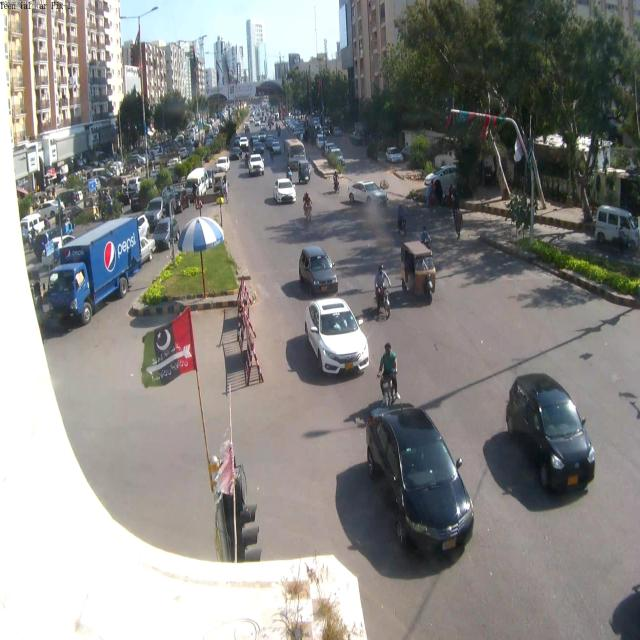car: (364, 402, 477, 562), (486, 372, 597, 507), (302, 298, 371, 376), (401, 242, 438, 300), (300, 246, 340, 298), (595, 206, 639, 251), (149, 212, 179, 251), (285, 139, 310, 183), (348, 181, 389, 204), (271, 178, 296, 204), (146, 197, 164, 227), (310, 158, 332, 178), (388, 148, 406, 165), (250, 154, 264, 174), (265, 138, 280, 154), (252, 134, 266, 149), (217, 157, 230, 171), (229, 149, 240, 161), (317, 134, 326, 148), (239, 136, 249, 148)
motorbike: (372, 277, 394, 321), (378, 364, 398, 411), (374, 282, 391, 322), (397, 212, 408, 235), (219, 184, 229, 204), (303, 201, 313, 220), (333, 176, 341, 195), (286, 172, 292, 185), (244, 156, 249, 168), (270, 149, 274, 161)
truck: (52, 212, 143, 330)
